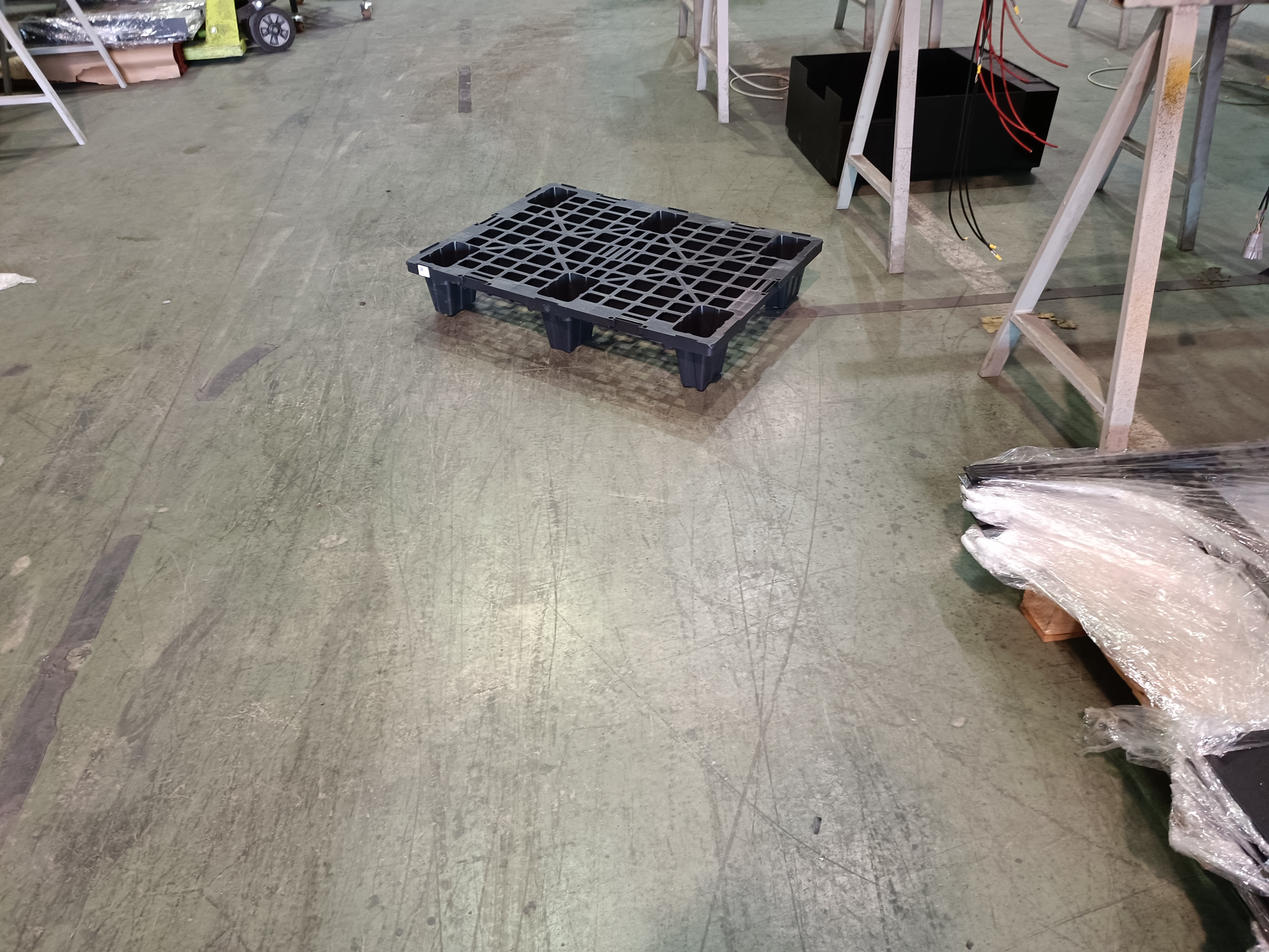block: (538, 311, 596, 356), (420, 271, 478, 315), (676, 348, 725, 390), (774, 259, 807, 320)
front: (412, 266, 711, 405)
hole pallet: (574, 318, 674, 388), (454, 275, 544, 350)
